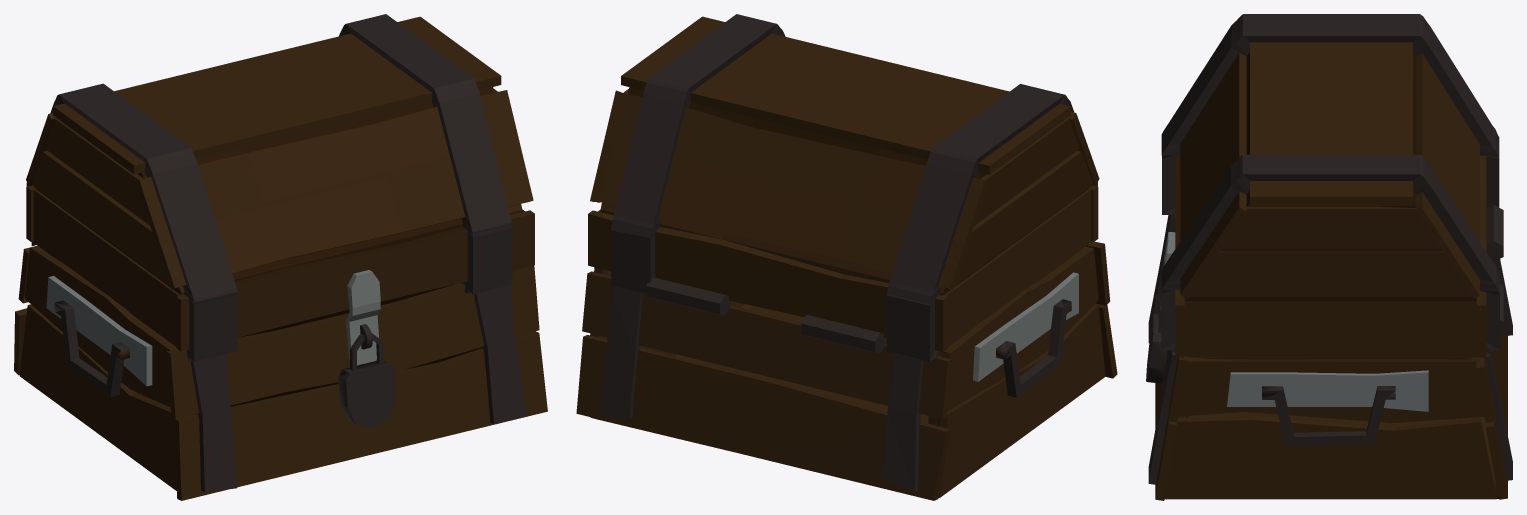
The model's file is Mychest.fbx.
3 renders of one model, left to right at view 1: azimuth 30°, elevation 25°; view 2: azimuth 150°, elevation 25°; view 3: azimuth 270°, elevation 25°, orthographic.
Visible parts, largest first — view 1: Top part, Chest.024, Lock, Object; view 2: Top part, Chest.024; view 3: Top part, Chest.024, Lock.
Boxes of the visible parts, left/top/right/bottom form: Top part: left=26, top=14, right=534, bottom=361; Chest.024: left=14, top=245, right=547, bottom=500; Lock: left=338, top=333, right=396, bottom=427; Object: left=345, top=270, right=380, bottom=365; Top part: left=588, top=14, right=1099, bottom=361; Chest.024: left=576, top=241, right=1117, bottom=500; Top part: left=1161, top=14, right=1499, bottom=357; Chest.024: left=1148, top=205, right=1512, bottom=500; Lock: left=1146, top=296, right=1167, bottom=383.
Bounding box in the file's own units: 86.73 × 67.95 × 71.59.
